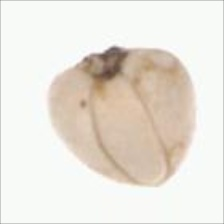L5: (87, 72, 170, 188), (73, 43, 133, 84)
L6: (45, 45, 200, 190)
